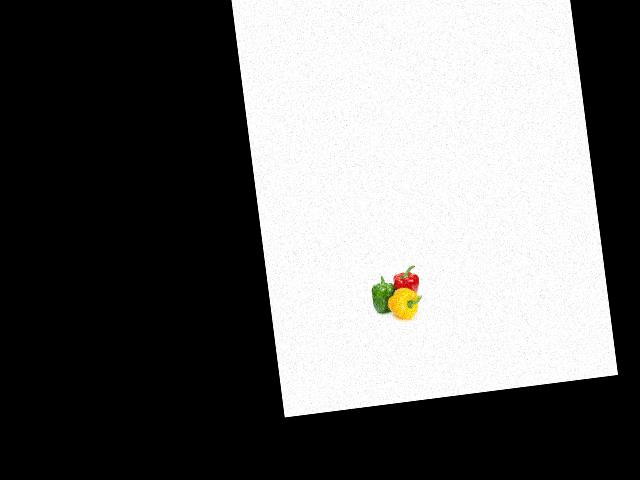bell_pepper: (387, 261, 425, 300)
